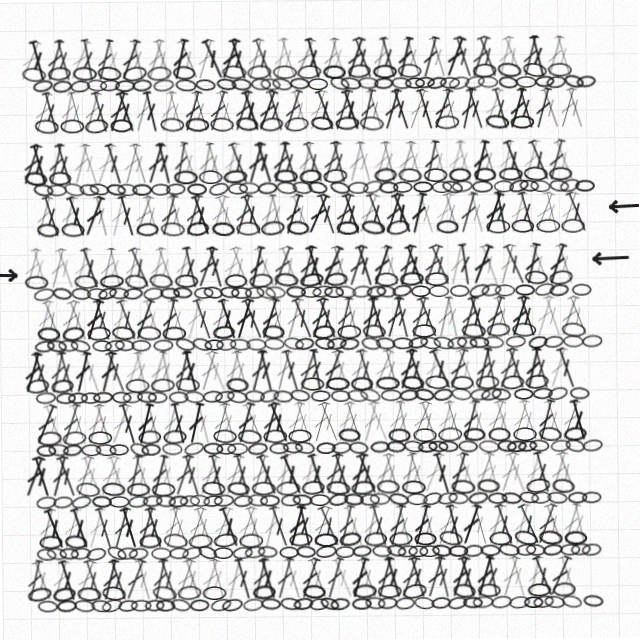chain: (511, 530, 537, 550), (436, 530, 462, 549), (124, 63, 150, 81), (524, 63, 550, 81), (361, 219, 387, 237), (386, 219, 412, 237), (299, 271, 325, 289), (24, 583, 50, 601), (149, 583, 175, 601), (399, 583, 425, 601), (124, 271, 149, 289), (49, 583, 74, 601), (486, 115, 512, 132), (103, 542, 126, 561), (194, 542, 217, 561), (99, 63, 124, 80), (499, 63, 524, 80), (261, 219, 286, 236), (149, 271, 174, 288), (274, 271, 299, 288), (549, 271, 574, 288), (61, 323, 86, 340), (111, 323, 136, 340), (524, 375, 549, 392), (74, 479, 99, 496), (524, 479, 549, 496), (161, 531, 186, 548), (211, 531, 236, 548), (336, 531, 361, 548), (536, 531, 561, 548), (99, 583, 124, 600), (468, 283, 491, 301), (127, 439, 150, 457), (237, 115, 261, 132), (312, 115, 336, 132), (187, 219, 211, 236), (25, 375, 49, 392), (24, 64, 49, 80), (149, 64, 174, 80), (299, 64, 324, 80), (36, 116, 61, 132), (86, 116, 111, 132), (261, 116, 286, 132), (286, 116, 311, 132), (361, 116, 386, 132), (224, 168, 249, 184), (324, 168, 349, 184), (399, 168, 424, 184), (161, 220, 186, 236), (74, 272, 99, 288), (249, 272, 274, 288), (461, 324, 486, 340), (561, 324, 586, 340), (36, 428, 61, 444), (61, 428, 86, 444), (236, 428, 261, 444), (274, 480, 299, 496), (324, 480, 349, 496), (349, 480, 374, 496), (449, 480, 474, 496), (186, 532, 211, 548), (74, 584, 99, 600), (255, 283, 277, 301), (316, 595, 338, 613), (64, 179, 87, 196), (358, 387, 381, 404), (479, 387, 502, 404), (98, 595, 121, 612), (25, 168, 49, 184), (300, 168, 324, 184), (37, 220, 61, 236), (212, 220, 236, 236), (312, 324, 336, 340), (362, 324, 386, 340), (50, 376, 74, 392), (225, 376, 249, 392), (500, 376, 524, 392), (537, 428, 561, 444), (562, 428, 586, 444), (225, 480, 249, 496), (550, 480, 574, 496), (62, 532, 86, 548), (450, 584, 474, 600), (224, 64, 249, 79), (249, 64, 274, 79), (486, 324, 511, 339), (424, 376, 449, 391), (331, 75, 353, 92), (466, 75, 488, 92), (565, 75, 587, 92), (363, 179, 385, 196), (509, 179, 531, 196), (560, 179, 582, 196), (97, 283, 119, 300), (534, 283, 556, 300), (174, 335, 196, 352), (191, 335, 213, 352), (258, 387, 280, 404), (546, 387, 568, 404), (182, 439, 204, 456), (420, 491, 442, 508), (450, 76, 473, 92), (442, 180, 465, 196), (33, 284, 56, 300), (419, 336, 442, 352), (432, 336, 455, 352), (225, 388, 248, 404), (207, 596, 230, 612), (218, 596, 241, 612), (75, 64, 99, 79), (400, 64, 424, 79), (162, 116, 186, 131), (187, 116, 211, 131), (212, 116, 236, 131), (337, 116, 361, 131), (437, 116, 461, 131), (375, 168, 399, 183), (525, 168, 549, 183), (62, 220, 86, 235), (287, 220, 311, 235), (100, 272, 124, 287), (325, 272, 349, 287), (400, 272, 424, 287), (87, 324, 111, 339), (137, 324, 161, 339), (212, 324, 236, 339), (512, 324, 536, 339), (175, 376, 199, 391), (400, 376, 424, 391), (162, 428, 186, 443), (212, 428, 236, 443), (437, 428, 461, 443), (100, 480, 124, 495), (200, 480, 224, 495), (475, 480, 499, 495), (287, 532, 311, 547), (387, 532, 411, 547), (175, 584, 199, 599), (350, 584, 374, 599), (273, 76, 295, 92), (428, 76, 450, 92), (209, 180, 231, 196), (330, 180, 352, 196), (69, 336, 91, 352), (360, 336, 382, 352), (446, 336, 468, 352), (527, 336, 549, 352), (213, 388, 235, 404), (563, 440, 585, 456), (69, 492, 91, 508), (386, 492, 408, 508), (83, 544, 105, 560), (179, 544, 201, 560), (167, 596, 189, 612), (444, 596, 466, 612), (558, 596, 580, 612), (50, 64, 73, 79), (175, 64, 198, 79), (350, 64, 373, 79), (525, 272, 548, 287), (37, 324, 60, 339), (262, 324, 285, 339), (137, 428, 160, 443), (337, 428, 360, 443), (300, 480, 323, 495), (375, 480, 398, 495), (137, 532, 160, 547), (362, 532, 385, 547), (250, 584, 273, 599), (300, 584, 323, 599), (550, 584, 573, 599), (275, 65, 299, 79), (375, 65, 399, 79), (475, 65, 499, 79), (550, 65, 574, 79), (62, 117, 86, 131), (512, 117, 536, 131), (175, 169, 199, 183), (200, 169, 224, 183), (275, 169, 299, 183), (425, 169, 449, 183), (500, 169, 524, 183), (550, 169, 574, 183), (237, 221, 261, 235), (487, 221, 511, 235), (537, 221, 561, 235), (562, 221, 586, 235), (25, 273, 49, 287), (175, 273, 199, 287), (375, 273, 399, 287), (425, 273, 449, 287), (162, 325, 186, 339), (337, 325, 361, 339), (412, 325, 436, 339), (125, 377, 149, 391), (150, 377, 174, 391), (300, 377, 324, 391), (325, 377, 349, 391), (375, 377, 399, 391), (475, 377, 499, 391), (87, 429, 111, 443), (262, 429, 286, 443), (287, 429, 311, 443), (412, 429, 436, 443), (512, 429, 536, 443), (125, 481, 149, 495), (150, 481, 174, 495), (250, 481, 274, 495), (400, 481, 424, 495), (37, 533, 61, 547), (237, 533, 261, 547), (312, 533, 336, 547), (200, 585, 224, 599), (375, 585, 399, 599), (525, 585, 549, 599), (34, 76, 56, 91), (342, 76, 364, 91), (277, 180, 299, 195), (308, 180, 330, 195), (312, 284, 334, 299), (407, 336, 429, 351), (326, 492, 348, 507), (435, 492, 457, 507), (242, 544, 264, 559), (313, 544, 335, 559), (496, 544, 518, 559), (277, 596, 299, 611), (488, 596, 510, 611), (530, 596, 552, 611), (325, 65, 348, 79), (112, 117, 135, 131), (50, 169, 73, 183), (450, 169, 473, 183), (475, 169, 498, 183), (137, 221, 160, 235), (337, 221, 360, 235), (437, 221, 460, 235), (512, 221, 535, 235), (225, 273, 248, 287), (350, 377, 373, 391), (450, 377, 473, 391), (387, 429, 410, 443), (462, 429, 485, 443), (487, 429, 510, 443), (412, 533, 435, 547), (487, 533, 510, 547), (562, 533, 585, 547), (475, 585, 498, 599), (218, 76, 239, 91), (34, 180, 55, 195), (90, 180, 111, 195), (293, 180, 314, 195), (52, 284, 73, 299), (203, 284, 224, 299), (392, 284, 413, 299), (481, 284, 502, 299), (46, 336, 67, 351), (283, 336, 304, 351), (294, 336, 315, 351), (314, 336, 335, 351), (326, 336, 347, 351), (289, 388, 310, 403), (413, 388, 434, 403), (432, 388, 453, 403), (450, 388, 471, 403), (293, 440, 314, 455), (402, 440, 423, 455), (466, 492, 487, 507), (517, 492, 538, 507), (44, 544, 65, 559), (384, 544, 405, 559), (429, 544, 450, 559), (290, 596, 311, 611), (155, 77, 177, 91), (177, 77, 199, 91), (335, 285, 357, 299), (229, 337, 251, 351), (456, 337, 478, 351), (346, 389, 368, 403), (94, 441, 116, 455), (477, 441, 499, 455), (71, 597, 93, 611), (506, 597, 528, 611), (541, 597, 563, 611), (54, 77, 75, 91), (72, 77, 93, 91), (197, 77, 218, 91), (262, 77, 283, 91), (393, 77, 414, 91), (500, 77, 521, 91), (548, 77, 569, 91), (578, 77, 599, 91), (80, 181, 101, 195), (107, 181, 128, 195), (118, 181, 139, 195), (531, 181, 552, 195), (550, 181, 571, 195), (123, 285, 144, 299), (143, 285, 164, 299), (265, 285, 286, 299), (352, 285, 373, 299), (366, 285, 387, 299), (376, 285, 397, 299), (549, 285, 570, 299), (34, 337, 55, 351), (104, 337, 125, 351), (339, 337, 360, 351), (375, 337, 396, 351), (483, 337, 504, 351), (543, 337, 564, 351), (183, 389, 204, 403), (272, 389, 293, 403), (398, 389, 419, 403), (469, 389, 490, 403), (490, 389, 511, 403), (61, 441, 82, 455), (246, 441, 267, 455), (330, 441, 351, 455), (347, 441, 368, 455), (505, 441, 526, 455), (516, 441, 537, 455), (549, 441, 570, 455), (581, 441, 602, 455), (34, 493, 55, 507), (51, 493, 72, 507), (126, 493, 147, 507), (166, 493, 187, 507), (201, 493, 222, 507), (231, 493, 252, 507), (290, 493, 311, 507), (499, 493, 520, 507), (545, 493, 566, 507), (34, 545, 55, 559), (126, 545, 147, 559), (230, 545, 251, 559), (395, 545, 416, 559), (461, 545, 482, 559), (523, 545, 544, 559), (540, 545, 561, 559), (579, 545, 600, 559), (88, 597, 109, 611), (115, 597, 136, 611), (240, 597, 261, 611), (306, 597, 327, 611), (327, 597, 348, 611), (392, 597, 413, 611), (411, 597, 432, 611), (428, 597, 449, 611), (134, 77, 155, 90), (233, 77, 254, 90), (360, 77, 381, 90), (240, 181, 261, 194), (453, 181, 474, 194), (520, 181, 541, 194), (71, 285, 92, 298), (114, 337, 135, 350), (505, 337, 526, 350), (47, 441, 68, 454), (281, 441, 302, 454), (416, 441, 437, 454), (446, 493, 467, 506), (529, 493, 550, 506), (68, 545, 89, 558), (115, 545, 136, 558), (255, 545, 276, 558), (568, 545, 589, 558), (362, 597, 383, 610), (470, 597, 491, 610), (580, 597, 601, 610), (89, 77, 109, 90), (102, 77, 122, 90), (253, 77, 273, 90), (292, 77, 312, 90), (417, 77, 437, 90), (480, 77, 500, 90), (537, 77, 557, 90), (259, 181, 279, 194), (109, 285, 129, 298), (173, 285, 193, 298), (220, 285, 240, 298), (286, 285, 306, 298), (58, 337, 78, 350), (216, 337, 236, 350), (264, 337, 284, 350), (563, 337, 583, 350), (582, 337, 602, 350), (35, 389, 55, 402), (92, 389, 112, 402), (111, 389, 131, 402), (122, 389, 142, 402), (136, 389, 156, 402), (202, 389, 222, 402), (244, 389, 264, 402), (532, 389, 552, 402), (569, 389, 589, 402), (161, 441, 181, 454), (202, 441, 222, 454), (369, 441, 389, 454), (385, 441, 405, 454), (427, 441, 447, 454), (437, 441, 457, 454), (457, 441, 477, 454), (496, 441, 516, 454), (528, 441, 548, 454), (90, 493, 110, 506), (141, 493, 161, 506), (154, 493, 174, 506), (188, 493, 208, 506), (212, 493, 232, 506), (246, 493, 266, 506), (342, 493, 362, 506), (368, 493, 388, 506), (57, 545, 77, 558), (294, 545, 314, 558), (350, 545, 370, 558), (370, 545, 390, 558), (514, 545, 534, 558), (54, 597, 74, 610), (258, 597, 278, 610), (375, 597, 395, 610), (518, 78, 539, 90), (349, 182, 370, 194), (473, 182, 494, 194), (87, 286, 108, 298), (231, 286, 252, 298), (301, 286, 322, 298), (392, 338, 413, 350), (380, 390, 401, 402), (226, 442, 247, 454), (107, 494, 128, 506), (405, 494, 426, 506), (417, 546, 438, 558), (128, 598, 149, 610), (117, 78, 137, 90), (310, 78, 330, 90), (376, 78, 396, 90), (407, 78, 427, 90), (442, 78, 462, 90), (48, 182, 68, 194), (133, 182, 153, 194), (152, 182, 172, 194), (167, 182, 187, 194), (188, 182, 208, 194), (229, 182, 249, 194), (380, 182, 400, 194), (394, 182, 414, 194), (414, 182, 434, 194), (433, 182, 453, 194), (495, 182, 515, 194), (576, 182, 596, 194), (160, 286, 180, 298), (194, 286, 214, 298), (245, 286, 265, 298), (324, 286, 344, 298), (411, 286, 431, 298), (429, 286, 449, 298), (450, 286, 470, 298), (495, 286, 515, 298), (515, 286, 535, 298), (572, 286, 592, 298), (92, 338, 112, 350), (131, 338, 151, 350), (153, 338, 173, 350), (204, 338, 224, 350), (246, 338, 266, 350), (469, 338, 489, 350), (55, 390, 75, 402), (67, 390, 87, 402), (80, 390, 100, 402), (147, 390, 167, 402), (168, 390, 188, 402), (310, 390, 330, 402), (330, 390, 350, 402), (513, 390, 533, 402), (35, 442, 55, 454), (80, 442, 100, 454), (108, 442, 128, 454), (140, 442, 160, 454), (215, 442, 235, 454), (268, 442, 288, 454), (315, 442, 335, 454), (178, 494, 198, 506), (258, 494, 278, 506), (279, 494, 299, 506), (308, 494, 328, 506), (358, 494, 378, 506), (486, 494, 506, 506), (566, 494, 586, 506), (580, 494, 600, 506), (149, 546, 169, 558), (167, 546, 187, 558), (211, 546, 231, 558), (277, 546, 297, 558), (333, 546, 353, 558), (406, 546, 426, 558), (446, 546, 466, 558), (478, 546, 498, 558), (558, 546, 578, 558), (35, 598, 55, 610), (142, 598, 162, 610), (153, 598, 173, 610), (187, 598, 207, 610), (349, 598, 369, 610), (460, 598, 480, 610), (521, 598, 541, 610)
double: (18, 36, 47, 80), (68, 36, 97, 80), (201, 36, 230, 80), (293, 36, 322, 80), (213, 192, 242, 236), (288, 192, 317, 236), (305, 192, 334, 236), (355, 192, 384, 236), (126, 244, 155, 288), (251, 244, 280, 288), (318, 244, 347, 288), (501, 244, 530, 288), (368, 348, 397, 392), (426, 348, 455, 392), (238, 400, 267, 444), (276, 452, 305, 496), (418, 452, 447, 496), (313, 504, 342, 548), (513, 504, 542, 548), (543, 556, 572, 600), (177, 36, 205, 80), (252, 36, 280, 80), (444, 36, 472, 80), (502, 36, 530, 80), (481, 88, 509, 132), (527, 140, 555, 184), (552, 140, 580, 184), (81, 192, 109, 236), (239, 192, 267, 236), (389, 192, 417, 236), (431, 192, 459, 236), (531, 192, 559, 236), (564, 192, 592, 236), (269, 244, 297, 288), (427, 244, 455, 288), (469, 244, 497, 288), (64, 296, 92, 340), (239, 296, 267, 340), (289, 296, 317, 340), (414, 296, 442, 340), (564, 296, 592, 340), (202, 348, 230, 392), (452, 348, 480, 392), (31, 400, 59, 444), (39, 400, 67, 444), (106, 400, 134, 444), (264, 400, 292, 444), (314, 400, 342, 444), (364, 400, 392, 444), (406, 400, 434, 444), (19, 452, 47, 496), (77, 452, 105, 496), (94, 452, 122, 496), (194, 452, 222, 496), (252, 452, 280, 496), (352, 452, 380, 496), (39, 504, 67, 548), (206, 504, 234, 548), (69, 556, 97, 600), (119, 556, 147, 600), (327, 556, 355, 600), (527, 556, 555, 600), (119, 36, 146, 80), (219, 36, 246, 80), (352, 36, 379, 80), (477, 36, 504, 80), (256, 88, 283, 132), (306, 88, 333, 132), (314, 88, 341, 132), (406, 88, 433, 132), (431, 88, 458, 132), (94, 140, 121, 184), (227, 140, 254, 184), (302, 140, 329, 184), (502, 140, 529, 184), (64, 192, 91, 236), (131, 192, 158, 236), (189, 192, 216, 236), (364, 192, 391, 236), (556, 192, 583, 236), (194, 244, 221, 288), (219, 244, 246, 288), (227, 244, 254, 288), (277, 244, 304, 288), (369, 244, 396, 288), (402, 244, 429, 288), (477, 244, 504, 288), (527, 244, 554, 288), (39, 296, 66, 340), (114, 296, 141, 340), (131, 296, 158, 340), (314, 296, 341, 340), (556, 296, 583, 340), (102, 348, 129, 392), (294, 348, 321, 392), (319, 348, 346, 392), (444, 348, 471, 392), (494, 348, 521, 392), (481, 400, 508, 444), (556, 400, 583, 444), (52, 452, 79, 496), (169, 452, 196, 496), (219, 452, 246, 496), (452, 452, 479, 496), (469, 452, 496, 496), (494, 452, 521, 496), (502, 452, 529, 496), (552, 452, 579, 496), (181, 504, 208, 548), (189, 504, 216, 548), (214, 504, 241, 548), (231, 504, 258, 548), (264, 504, 291, 548), (306, 504, 333, 548), (339, 504, 366, 548), (431, 504, 458, 548), (456, 504, 483, 548), (531, 504, 558, 548), (539, 504, 566, 548), (27, 556, 54, 600), (169, 556, 196, 600), (294, 556, 321, 600), (302, 556, 329, 600), (352, 556, 379, 600), (394, 556, 421, 600), (145, 36, 171, 80), (228, 36, 254, 80), (345, 36, 371, 80), (453, 36, 479, 80), (470, 36, 496, 80), (107, 88, 133, 132), (115, 88, 141, 132), (207, 88, 233, 132), (215, 88, 241, 132), (232, 88, 258, 132), (240, 88, 266, 132), (282, 88, 308, 132), (332, 88, 358, 132), (340, 88, 366, 132), (390, 88, 416, 132), (540, 88, 566, 132), (20, 140, 46, 184), (78, 140, 104, 184), (178, 140, 204, 184), (320, 140, 346, 184), (395, 140, 421, 184), (207, 192, 233, 236), (315, 192, 341, 236), (332, 192, 358, 236), (340, 192, 366, 236), (382, 192, 408, 236), (482, 192, 508, 236), (53, 244, 79, 288), (78, 244, 104, 288), (153, 244, 179, 288), (345, 244, 371, 288), (378, 244, 404, 288), (420, 244, 446, 288), (545, 244, 571, 288), (57, 296, 83, 340), (140, 296, 166, 340), (190, 296, 216, 340), (215, 296, 241, 340), (257, 296, 283, 340), (482, 296, 508, 340), (507, 296, 533, 340), (532, 296, 558, 340), (540, 296, 566, 340), (78, 348, 104, 392), (120, 348, 146, 392), (195, 348, 221, 392), (328, 348, 354, 392), (403, 348, 429, 392), (503, 348, 529, 392), (545, 348, 571, 392), (553, 348, 579, 392), (57, 400, 83, 444), (332, 400, 358, 444), (415, 400, 441, 444), (465, 400, 491, 444), (515, 400, 541, 444), (540, 400, 566, 444), (70, 452, 96, 496), (103, 452, 129, 496), (128, 452, 154, 496), (370, 452, 396, 496), (65, 504, 91, 548), (165, 504, 191, 548), (490, 504, 516, 548), (78, 556, 104, 600), (103, 556, 129, 600), (153, 556, 179, 600), (195, 556, 221, 600), (420, 556, 446, 600), (445, 556, 471, 600), (495, 556, 521, 600), (553, 556, 579, 600), (45, 36, 70, 80), (153, 36, 178, 80), (195, 36, 220, 80), (245, 36, 270, 80), (278, 36, 303, 80), (403, 36, 428, 80), (428, 36, 453, 80), (545, 36, 570, 80), (32, 88, 57, 132), (82, 88, 107, 132), (90, 88, 115, 132), (165, 88, 190, 132), (182, 88, 207, 132), (190, 88, 215, 132), (265, 88, 290, 132), (290, 88, 315, 132), (365, 88, 390, 132), (382, 88, 407, 132), (415, 88, 440, 132), (465, 88, 490, 132), (507, 88, 532, 132), (557, 88, 582, 132), (565, 88, 590, 132), (53, 140, 78, 184), (103, 140, 128, 184), (128, 140, 153, 184), (145, 140, 170, 184), (245, 140, 270, 184), (253, 140, 278, 184), (270, 140, 295, 184), (445, 140, 470, 184), (478, 140, 503, 184), (40, 192, 65, 236), (57, 192, 82, 236), (182, 192, 207, 236), (232, 192, 257, 236), (282, 192, 307, 236), (415, 192, 440, 236), (457, 192, 482, 236), (507, 192, 532, 236), (20, 244, 45, 288), (28, 244, 53, 288), (70, 244, 95, 288), (303, 244, 328, 288), (328, 244, 353, 288), (353, 244, 378, 288), (395, 244, 420, 288), (495, 244, 520, 288), (553, 244, 578, 288), (82, 296, 107, 340), (90, 296, 115, 340), (165, 296, 190, 340), (182, 296, 207, 340), (232, 296, 257, 340), (282, 296, 307, 340), (307, 296, 332, 340), (365, 296, 390, 340), (382, 296, 407, 340), (407, 296, 432, 340), (457, 296, 482, 340), (465, 296, 490, 340), (490, 296, 515, 340), (515, 296, 540, 340), (20, 348, 45, 392), (28, 348, 53, 392), (145, 348, 170, 392), (228, 348, 253, 392), (353, 348, 378, 392), (395, 348, 420, 392), (65, 400, 90, 444), (82, 400, 107, 444), (90, 400, 115, 444), (115, 400, 140, 444), (232, 400, 257, 444), (282, 400, 307, 444), (290, 400, 315, 444), (340, 400, 365, 444), (440, 400, 465, 444), (490, 400, 515, 444), (507, 400, 532, 444), (28, 452, 53, 496), (178, 452, 203, 496), (245, 452, 270, 496), (295, 452, 320, 496), (303, 452, 328, 496), (320, 452, 345, 496), (328, 452, 353, 496), (378, 452, 403, 496), (403, 452, 428, 496), (445, 452, 470, 496), (520, 452, 545, 496), (545, 452, 570, 496), (57, 504, 82, 548), (82, 504, 107, 548), (90, 504, 115, 548), (107, 504, 132, 548), (115, 504, 140, 548), (132, 504, 157, 548), (140, 504, 165, 548), (240, 504, 265, 548), (365, 504, 390, 548), (482, 504, 507, 548), (557, 504, 582, 548), (45, 556, 70, 600), (53, 556, 78, 600), (178, 556, 203, 600), (253, 556, 278, 600), (270, 556, 295, 600), (278, 556, 303, 600), (320, 556, 345, 600), (345, 556, 370, 600), (370, 556, 395, 600), (403, 556, 428, 600), (453, 556, 478, 600), (470, 556, 495, 600), (54, 36, 78, 80), (304, 36, 328, 80), (321, 36, 345, 80), (329, 36, 353, 80), (379, 36, 403, 80), (421, 36, 445, 80), (496, 36, 520, 80), (521, 36, 545, 80), (554, 36, 578, 80), (41, 88, 65, 132), (66, 88, 90, 132), (133, 88, 157, 132), (158, 88, 182, 132), (491, 88, 515, 132), (516, 88, 540, 132), (533, 88, 557, 132), (29, 140, 53, 184), (71, 140, 95, 184), (121, 140, 145, 184), (204, 140, 228, 184), (221, 140, 245, 184), (279, 140, 303, 184), (346, 140, 370, 184), (371, 140, 395, 184), (404, 140, 428, 184), (429, 140, 453, 184), (454, 140, 478, 184), (521, 140, 545, 184), (546, 140, 570, 184), (33, 192, 57, 236), (116, 192, 140, 236), (141, 192, 165, 236), (158, 192, 182, 236), (441, 192, 465, 236), (466, 192, 490, 236), (516, 192, 540, 236), (46, 244, 70, 288), (146, 244, 170, 288), (171, 244, 195, 288), (204, 244, 228, 288), (296, 244, 320, 288), (33, 296, 57, 340), (208, 296, 232, 340), (54, 348, 78, 392), (221, 348, 245, 392), (246, 348, 270, 392), (271, 348, 295, 392), (279, 348, 303, 392), (346, 348, 370, 392), (379, 348, 403, 392), (471, 348, 495, 392), (529, 348, 553, 392), (158, 400, 182, 444), (208, 400, 232, 444), (216, 400, 240, 444), (258, 400, 282, 444), (308, 400, 332, 444), (358, 400, 382, 444), (383, 400, 407, 444), (433, 400, 457, 444), (458, 400, 482, 444), (533, 400, 557, 444), (566, 400, 590, 444), (46, 452, 70, 496), (146, 452, 170, 496), (229, 452, 253, 496), (346, 452, 370, 496), (429, 452, 453, 496), (529, 452, 553, 496), (33, 504, 57, 548), (158, 504, 182, 548), (283, 504, 307, 548), (383, 504, 407, 548), (408, 504, 432, 548), (466, 504, 490, 548), (508, 504, 532, 548), (96, 556, 120, 600), (129, 556, 153, 600), (229, 556, 253, 600), (246, 556, 270, 600), (379, 556, 403, 600), (504, 556, 528, 600), (29, 36, 52, 80), (96, 36, 119, 80), (129, 36, 152, 80), (396, 36, 419, 80), (529, 36, 552, 80), (358, 88, 381, 132), (441, 88, 464, 132), (46, 140, 69, 184), (154, 140, 177, 184), (296, 140, 319, 184), (329, 140, 352, 184), (354, 140, 377, 184), (379, 140, 402, 184), (471, 140, 494, 184), (91, 192, 114, 236), (108, 192, 131, 236), (166, 192, 189, 236), (258, 192, 281, 236), (408, 192, 431, 236), (541, 192, 564, 236), (96, 244, 119, 288), (104, 244, 127, 288), (121, 244, 144, 288), (246, 244, 269, 288), (446, 244, 469, 288), (158, 296, 181, 340), (266, 296, 289, 340), (333, 296, 356, 340), (341, 296, 364, 340), (391, 296, 414, 340), (46, 348, 69, 392), (71, 348, 94, 392), (96, 348, 119, 392), (171, 348, 194, 392), (179, 348, 202, 392), (254, 348, 277, 392), (421, 348, 444, 392), (521, 348, 544, 392), (133, 400, 156, 444), (141, 400, 164, 444), (191, 400, 214, 444), (204, 452, 227, 496), (258, 504, 281, 548), (333, 504, 356, 548), (358, 504, 381, 548), (391, 504, 414, 548), (416, 504, 439, 548), (441, 504, 464, 548), (21, 556, 44, 600), (204, 556, 227, 600), (221, 556, 244, 600), (521, 556, 544, 600), (105, 36, 127, 80), (172, 36, 194, 80), (272, 36, 294, 80), (372, 36, 394, 80), (142, 88, 164, 132), (459, 88, 481, 132), (422, 140, 444, 184), (497, 140, 519, 184), (267, 192, 289, 236), (180, 244, 202, 288), (109, 296, 131, 340), (359, 296, 381, 340), (434, 296, 456, 340), (130, 348, 152, 392), (167, 400, 189, 444), (184, 400, 206, 444), (122, 452, 144, 496), (480, 452, 502, 496), (147, 556, 169, 600), (430, 556, 452, 600), (59, 88, 81, 131), (197, 140, 219, 183), (522, 244, 544, 287), (397, 452, 419, 495), (292, 504, 314, 547), (567, 504, 589, 547), (80, 36, 101, 79), (172, 140, 193, 183), (492, 192, 513, 235), (442, 296, 463, 339), (480, 348, 501, 391), (392, 400, 413, 443), (155, 452, 176, 495), (272, 452, 293, 495), (480, 556, 501, 599), (156, 348, 176, 391), (306, 348, 326, 391), (456, 244, 475, 287)
noise: (590, 252, 630, 269), (607, 200, 640, 217), (0, 266, 20, 279)
